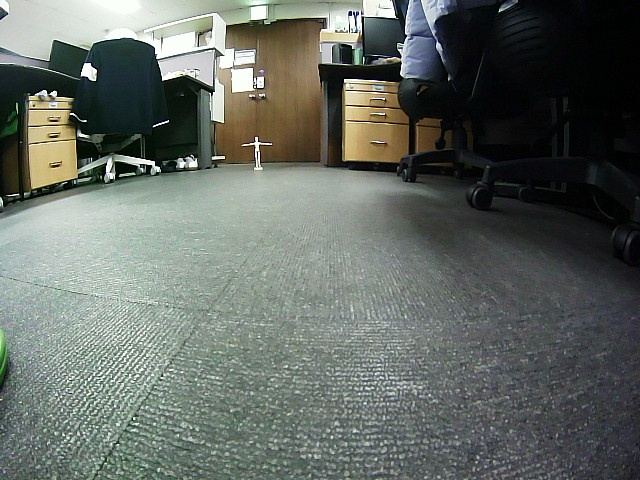person: (241, 135, 272, 168)
